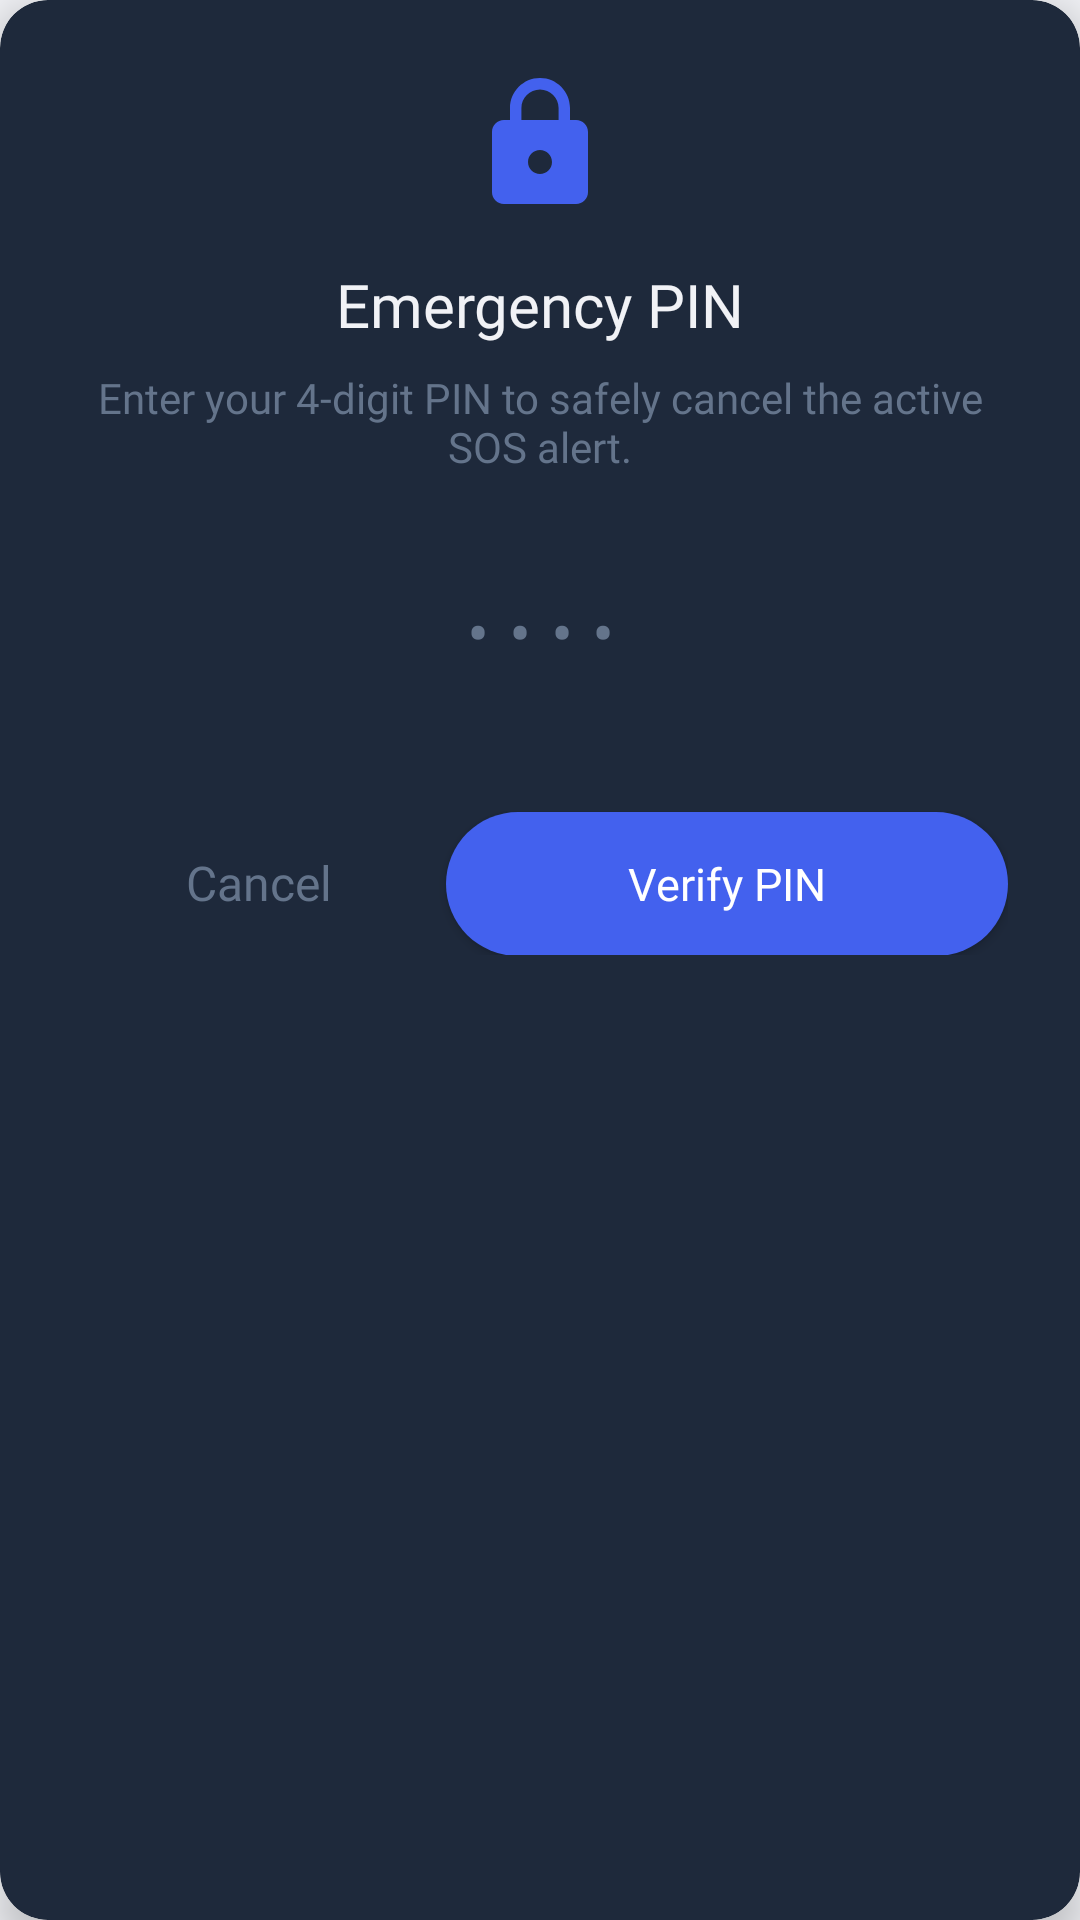

Icons on this 1080x1920 Android screen, each with its box as (x1, y1, x2, y2):
lock: (492, 78, 588, 204)
